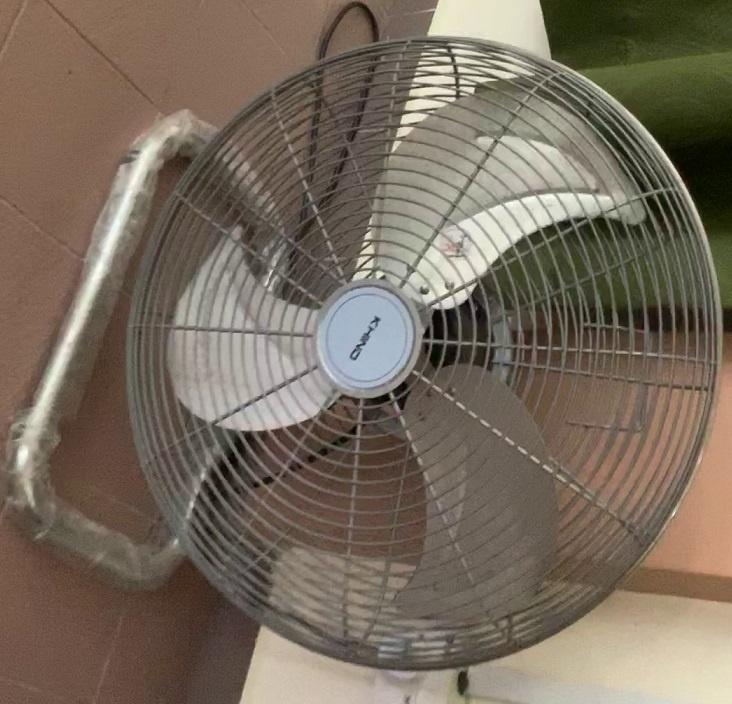fan: (126, 24, 690, 704)
